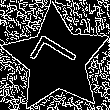L_SE: (27, 33, 86, 86)
